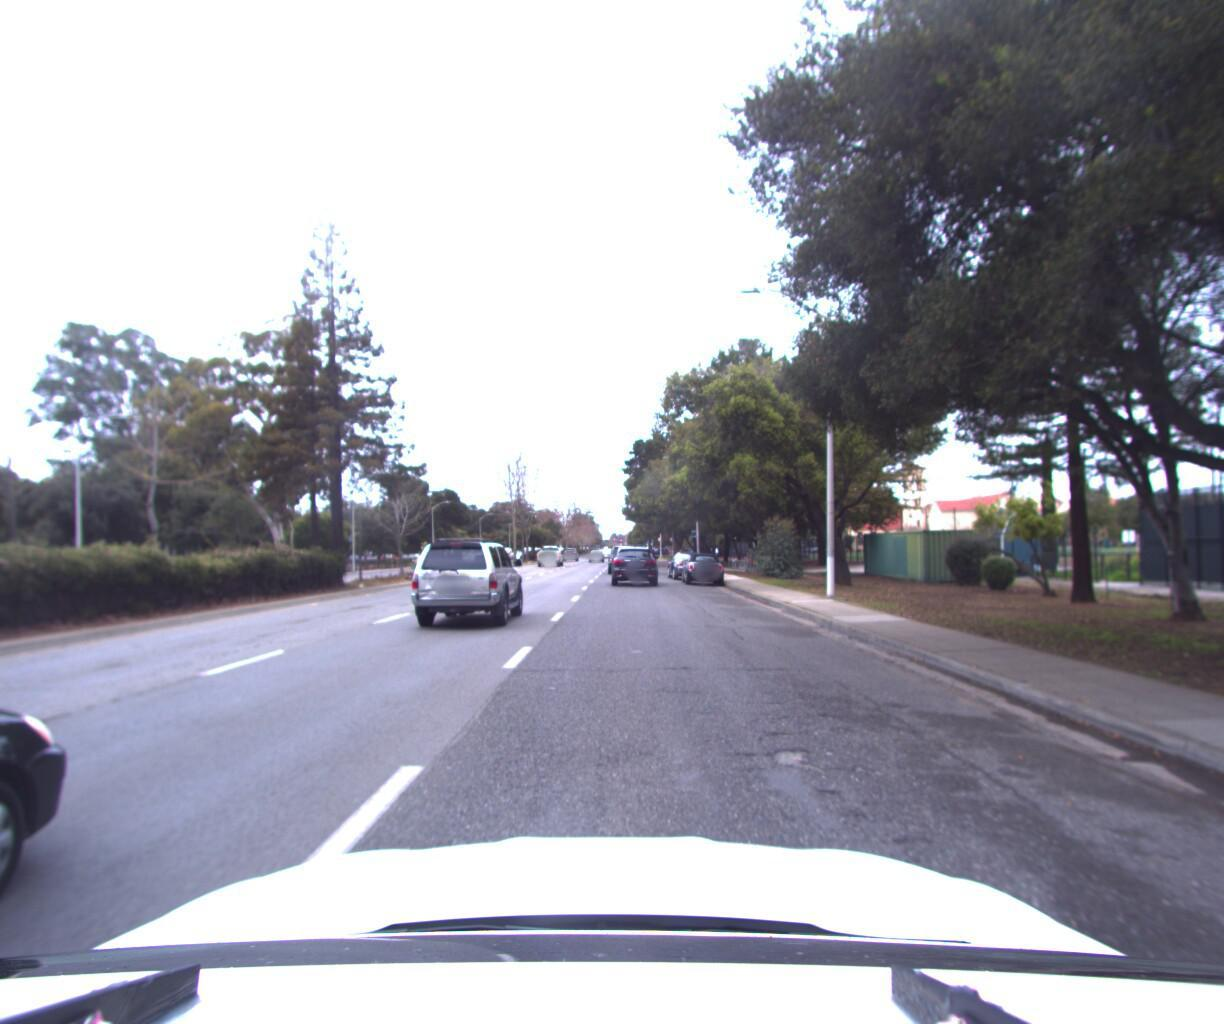car: (409, 531, 529, 633), (609, 540, 660, 587), (675, 543, 729, 585), (662, 546, 709, 578), (596, 540, 630, 571), (536, 541, 565, 567)
